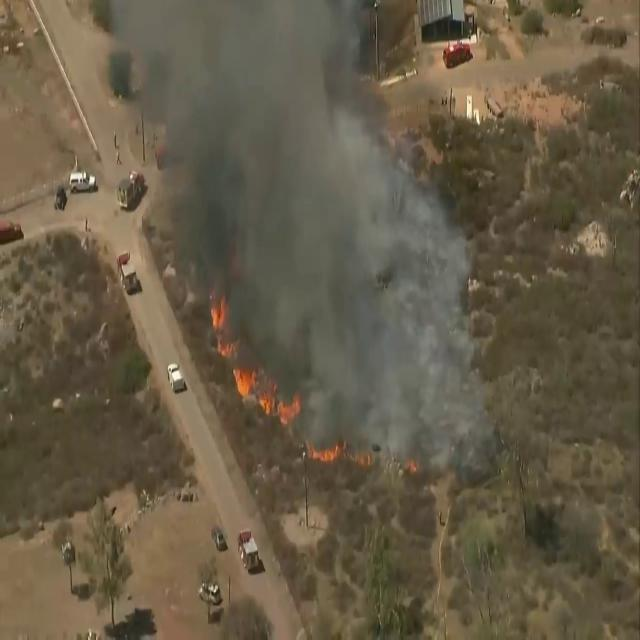Fire: (231, 354, 303, 428), (208, 285, 230, 348)
Smoke: (111, 0, 490, 436)
